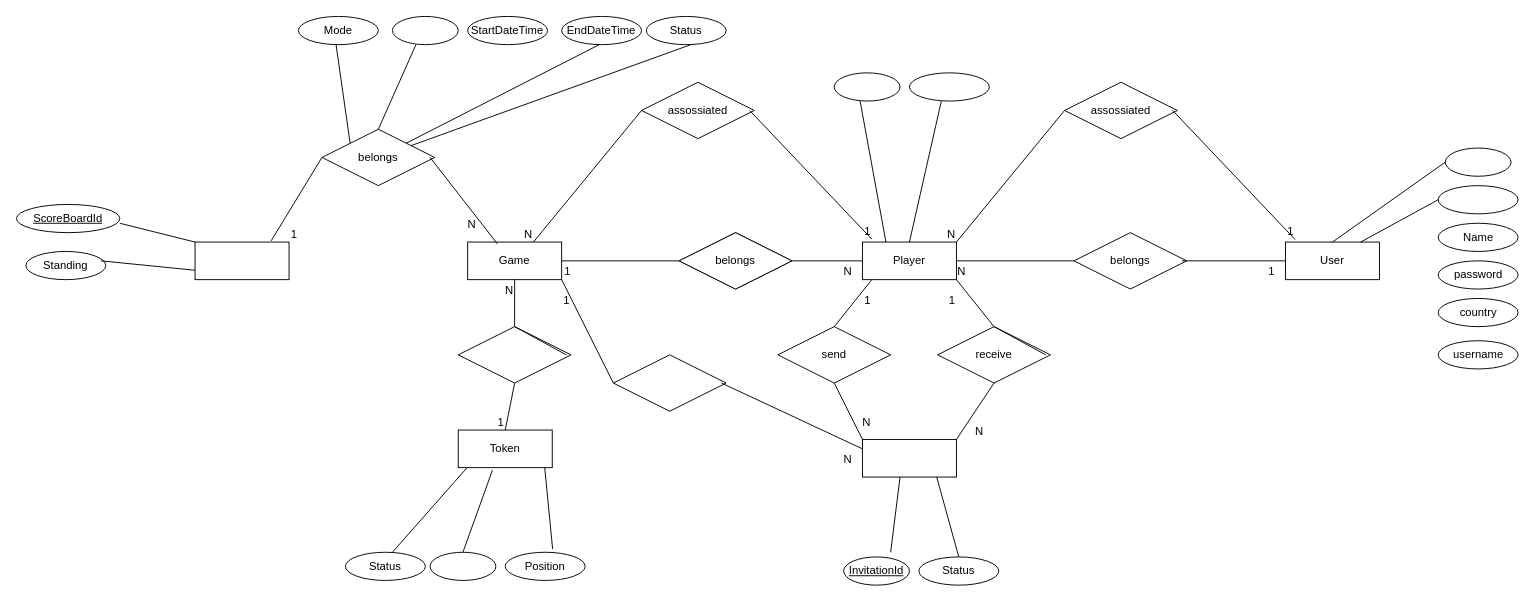
Image size: 1535x602. Some labels were removed from this diagram. Here are the shapes that lost their labels. From the top down, the box of each, then its label:
(392, 16, 458, 45): GameId
(833, 72, 900, 101): PlayerId
(909, 72, 989, 101): CurrentTurn
(1444, 147, 1511, 176): UserId
(1437, 185, 1518, 214): Email
(194, 241, 289, 280): Score_Board
(457, 326, 571, 383): have
(612, 354, 726, 411): related
(862, 439, 956, 477): Invitation
(429, 551, 496, 580): TokenId
